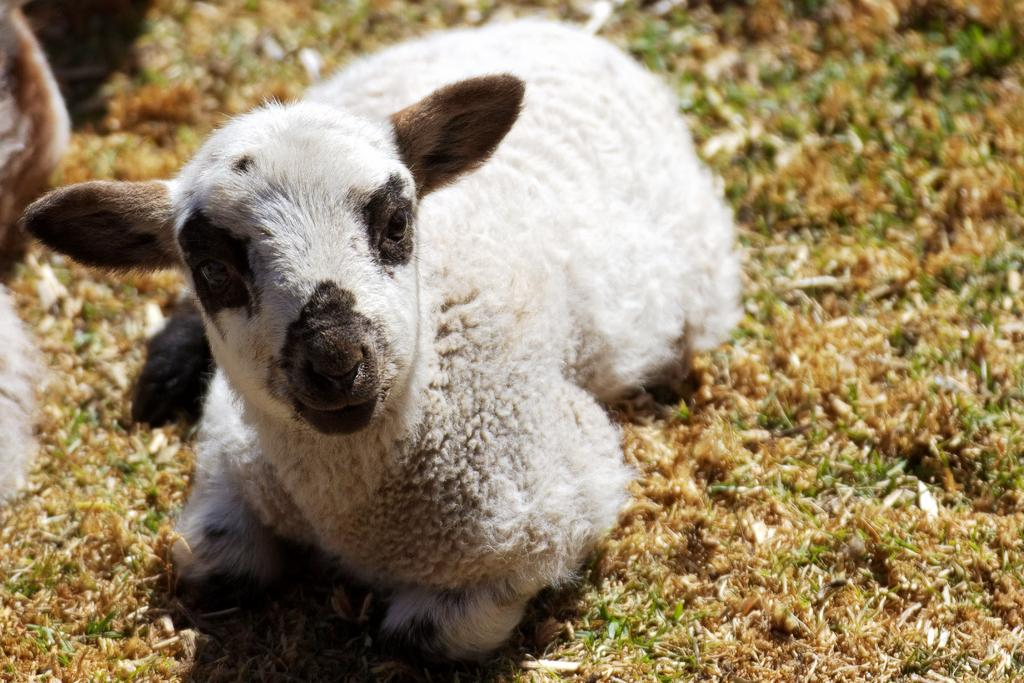Sheep: (59, 7, 738, 674)
